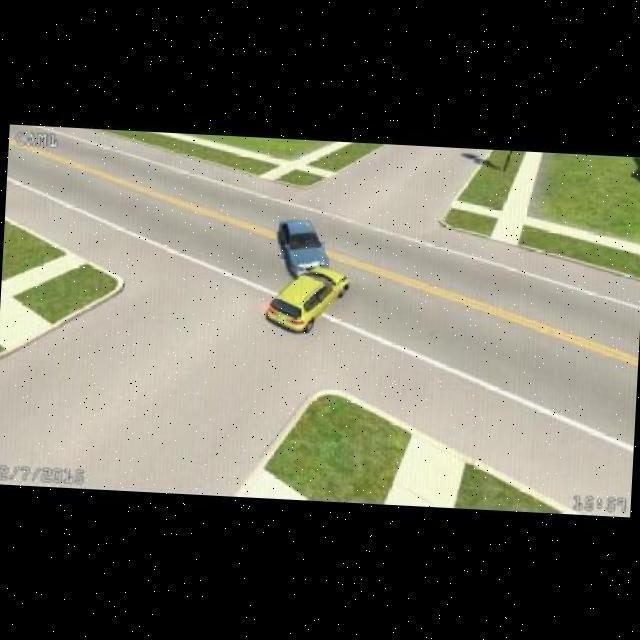accident: (280, 241, 355, 302)
